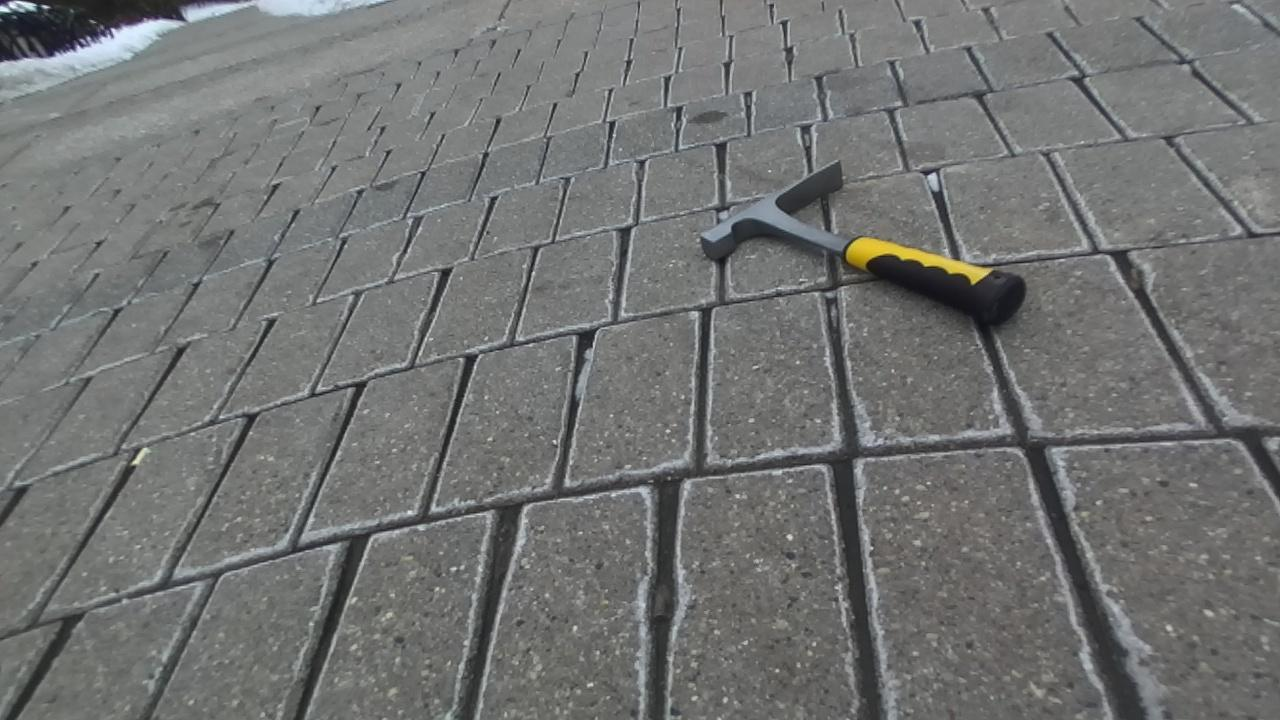pick: (701, 161, 1025, 324)
